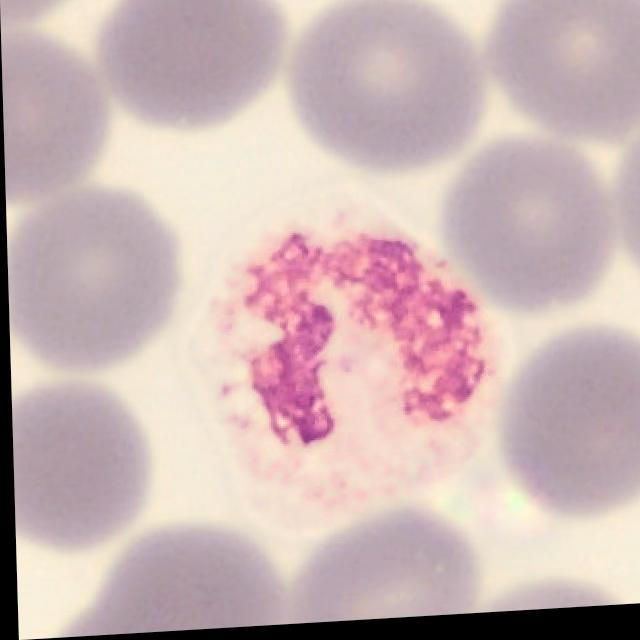Restos celulares: (188, 196, 509, 543)
